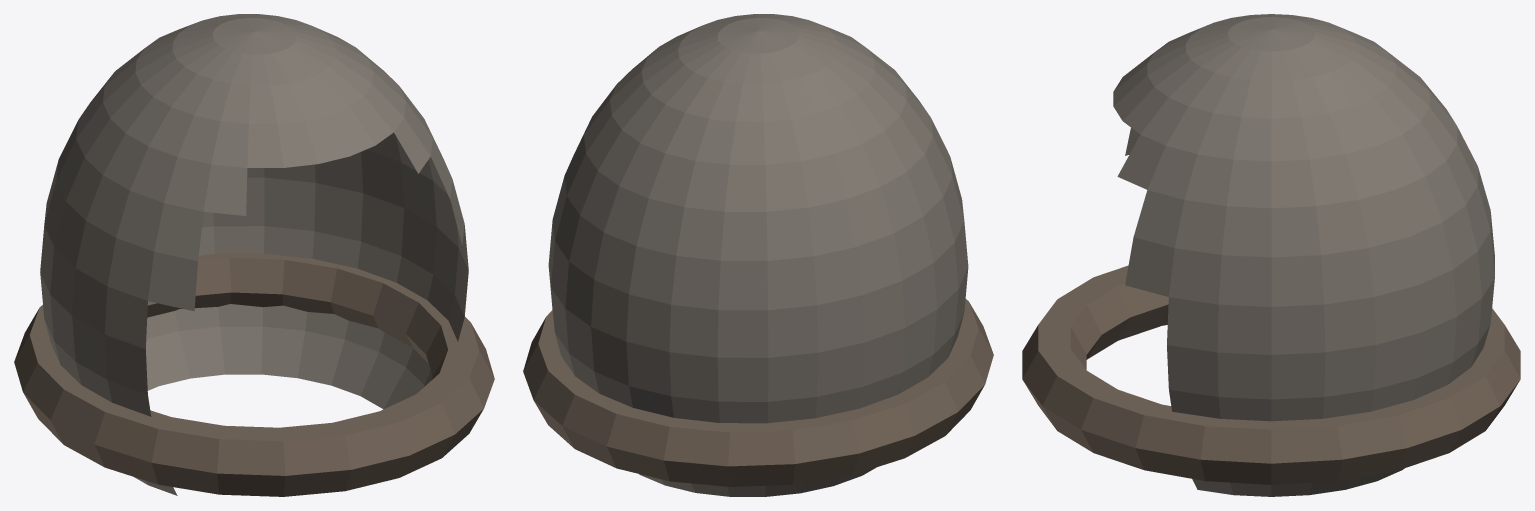
The model's file is Hood.fbx.
3 views of the same model, side by side, from view 1: azimuth 30°, elevation 25°; view 2: azimuth 150°, elevation 25°; view 3: azimuth 270°, elevation 25° (orthographic). The views are drawn at different scales.
Parts seen in each view (by area): view 1: Hood; view 2: Hood; view 3: Hood.
Boxes of the visible parts, x1,y1,x2,y2 form: Hood: (14,14,494,496); Hood: (523,14,993,496); Hood: (1022,14,1520,496).
Bounding box in the file's own units: 14.62 × 14.01 × 15.63.
